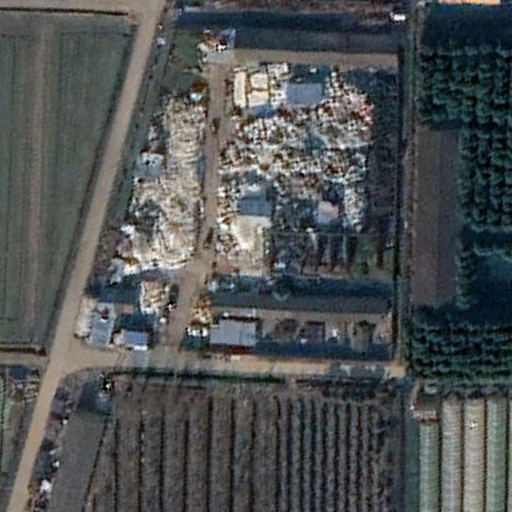msw: (221, 68, 379, 230)
